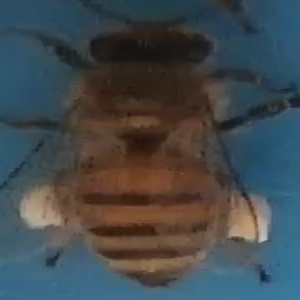bee: (5, 3, 282, 293)
